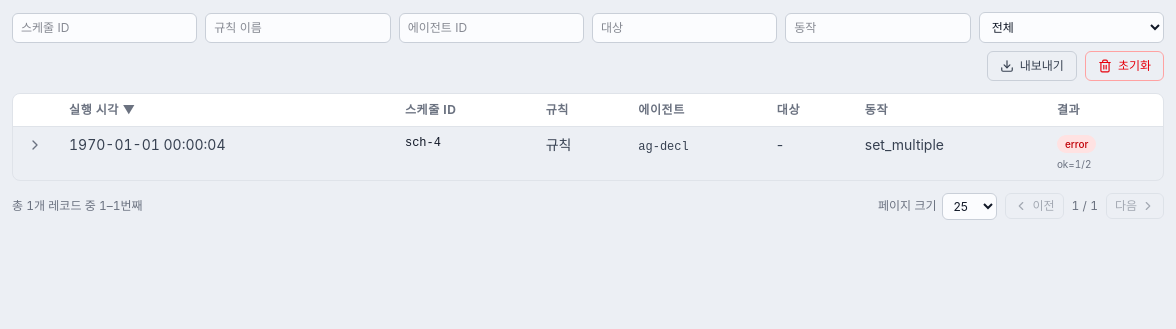
Test: 대상별 결과 상세 펼침 › targets 가 있으면 펼침 버튼으로 대상별 결과를 표시한다
The width and height of the screenshot is (1176, 329).
Expected: the text "ok=1/2" is shown, 1057,157 -> 1091,172
Click the button with test id "log-expand-sch-4:4000". click: click(35, 145)
box: 25,135 -> 45,155
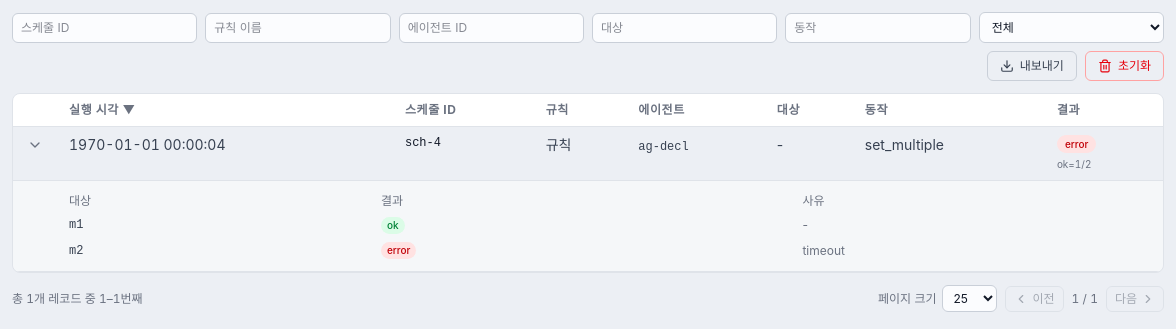
Expected: the row with test id "log-targets-sch-4:4000" is shown, 13,180 -> 1163,272
Expected: the text "timeout" is shown, 802,238 -> 1151,263
